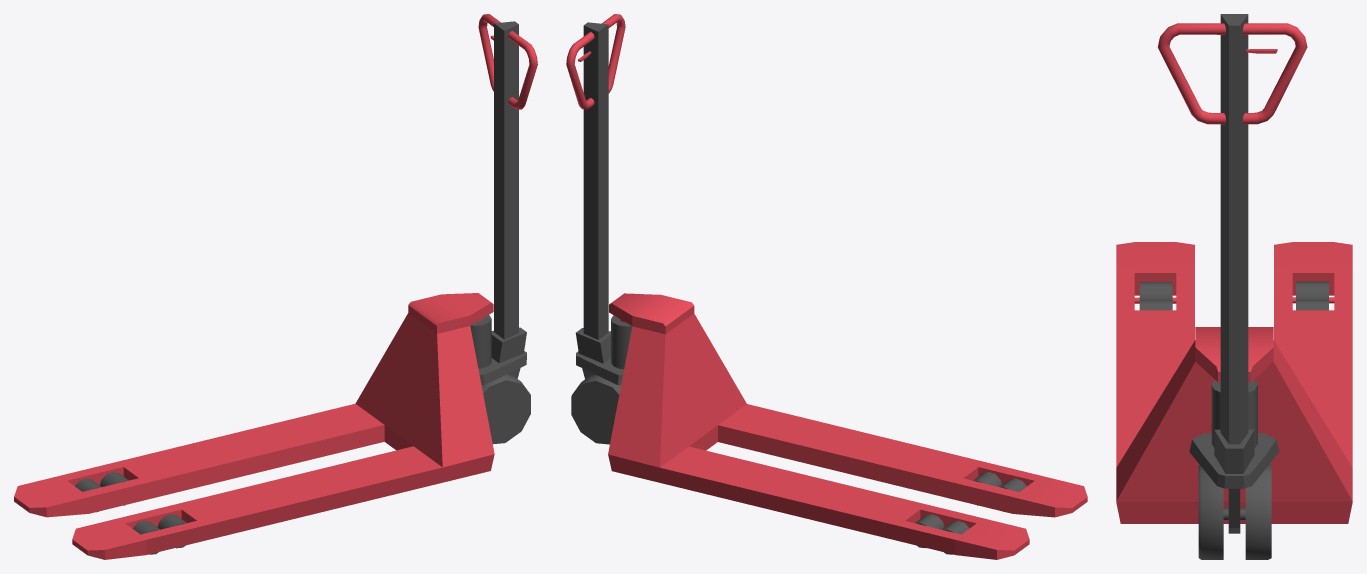
File: transpallet.fbx
3 views of the same model, side by side, from view 1: azimuth 30°, elevation 25°; view 2: azimuth 150°, elevation 25°; view 3: azimuth 270°, elevation 25° (orthographic). The views are drawn at different scales.
Parts seen in each view (by area): view 1: transpallet, transpalletKol; view 2: transpallet, transpalletKol; view 3: transpallet, transpalletKol.
Part boxes in pixels (box(x1,y1,x2,y2)): transpallet: box(14, 293, 494, 559); transpalletKol: box(470, 14, 537, 444); transpallet: box(608, 293, 1087, 559); transpalletKol: box(566, 14, 632, 444); transpallet: box(1116, 242, 1352, 523); transpalletKol: box(1157, 14, 1307, 559).
Bounding box in the file's own units: 227 × 188 × 72.59.
